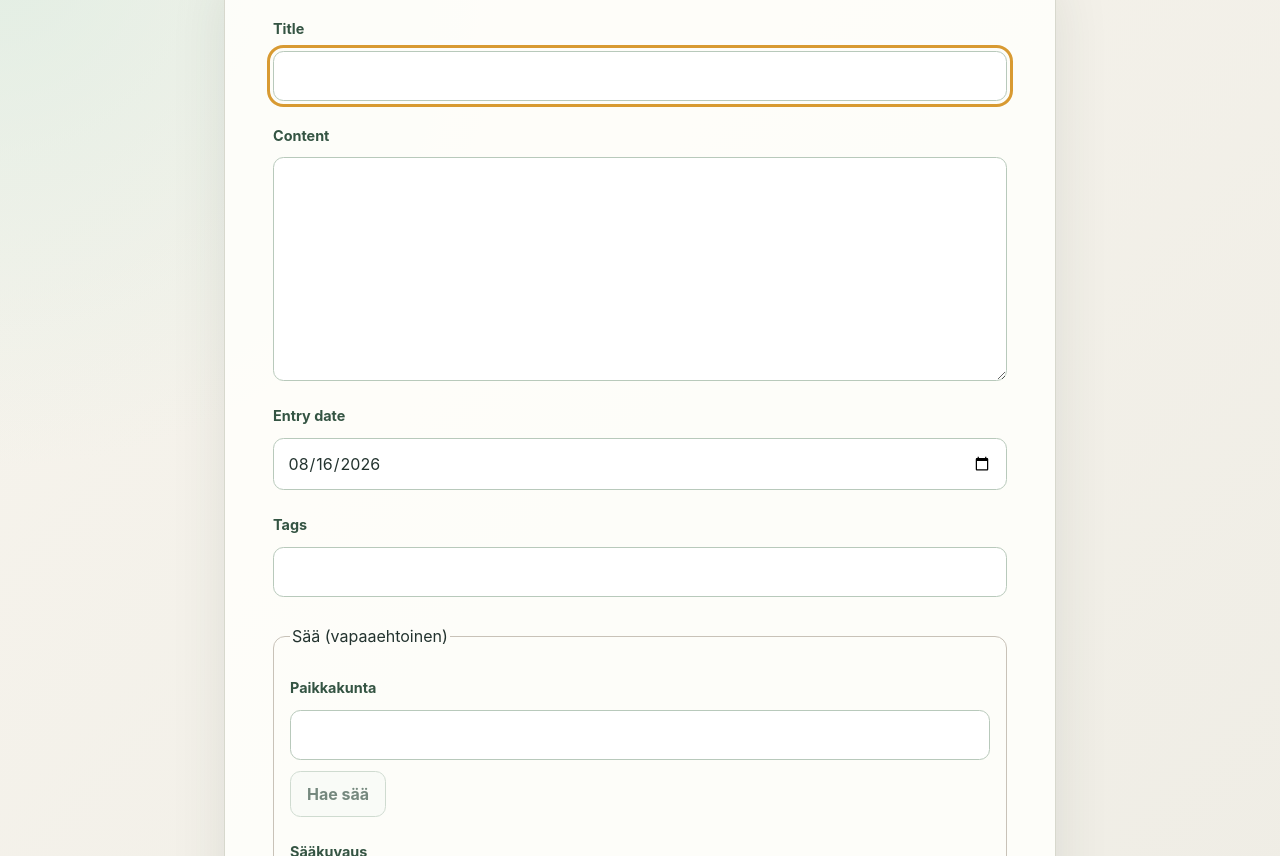
Test case: NewEntryForm › moves focus to the content field after a content validation failure
Type "A valid title" into the field labelled "Title".
click(640, 76); type("A valid title")  # box x1=273 y1=51 x2=1007 y2=101
(page scrolled)
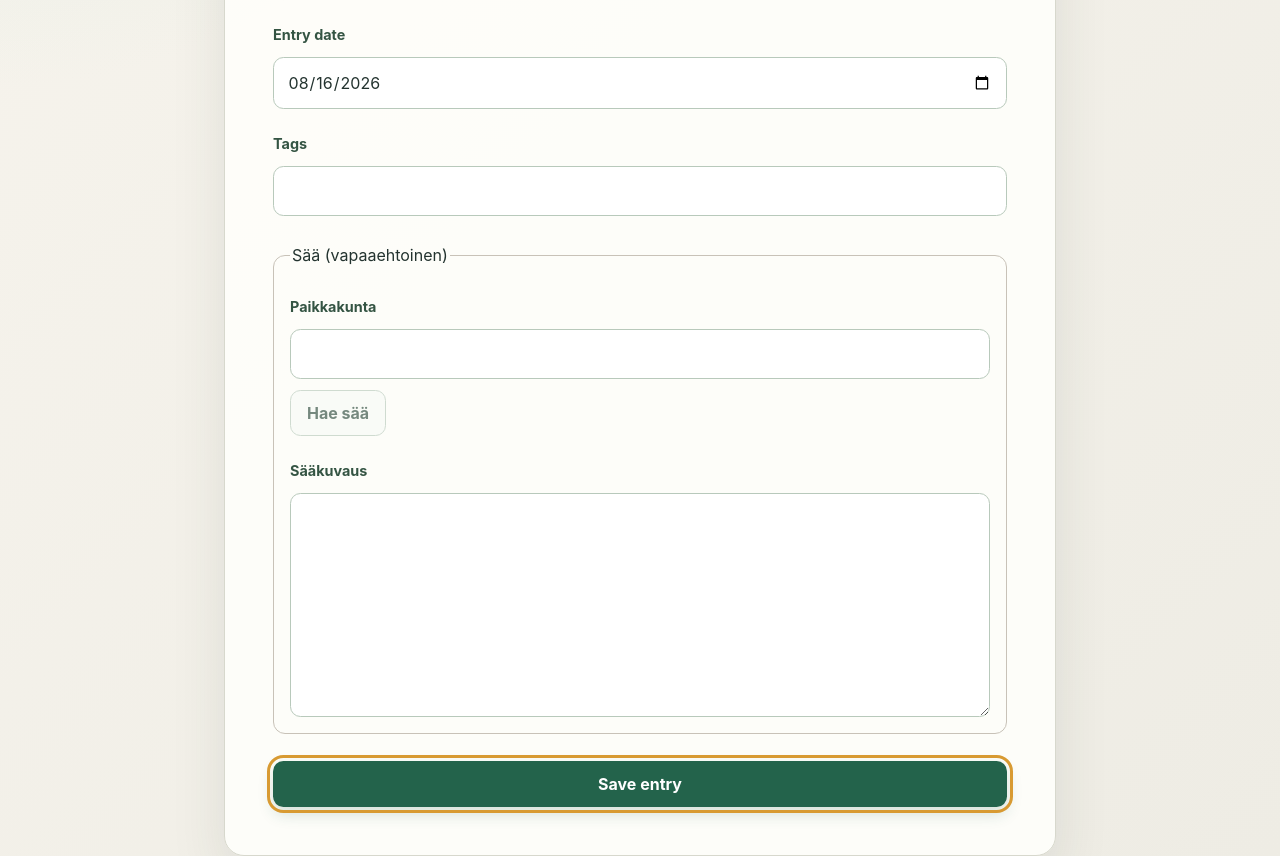
Click the button "Save entry".
click(640, 784)  # box x1=273 y1=761 x2=1007 y2=807
(page scrolled)
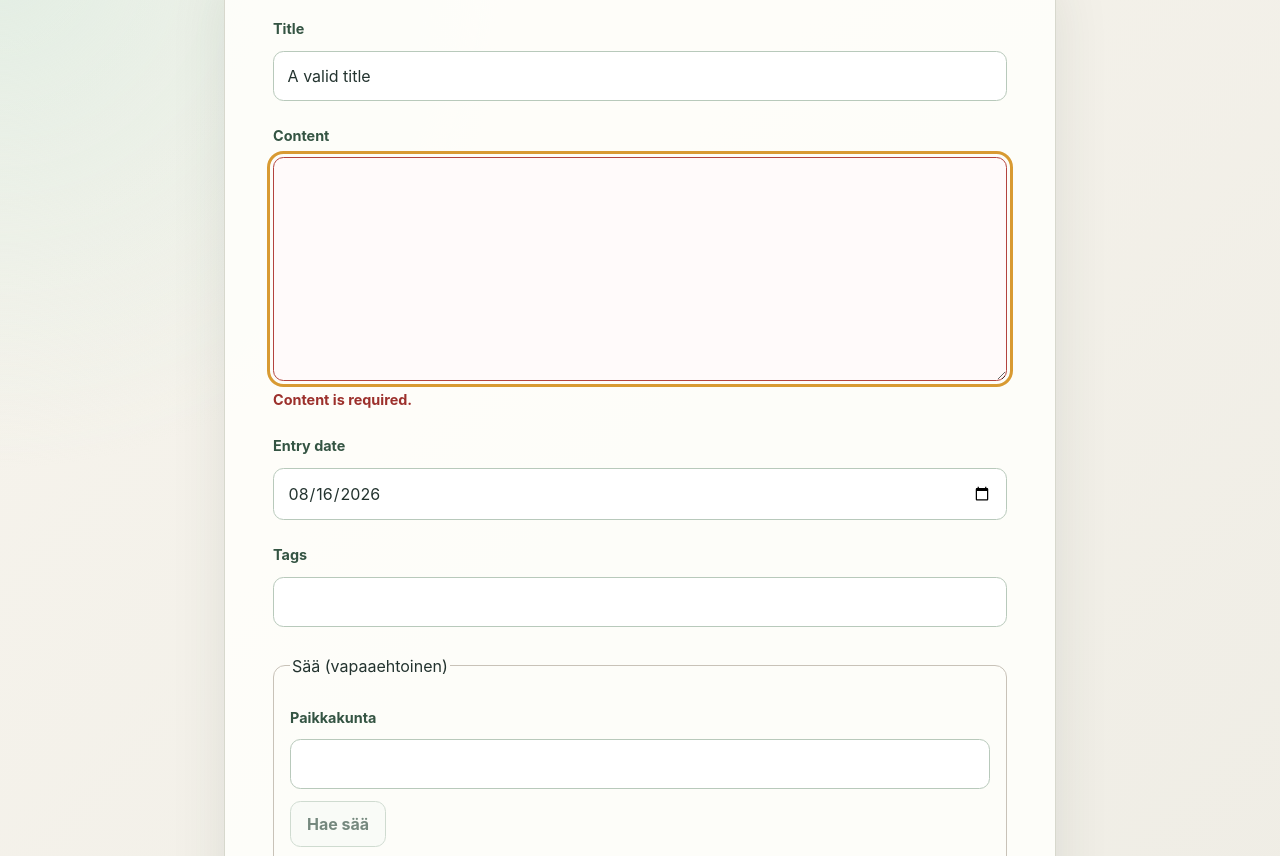
Check: the message reads "Content is required.", box x1=273 y1=391 x2=412 y2=408
